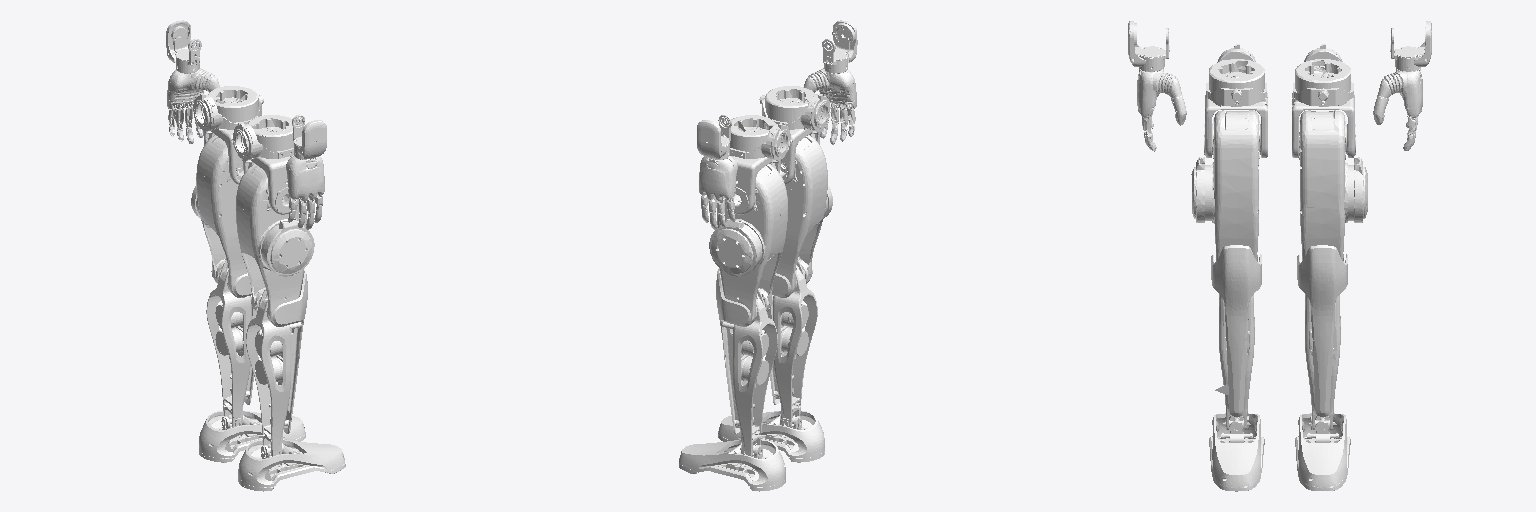
--- What the picture shows (computed from the rendered views, not written in the file) ---
The picture shows the robot from 3 angles, left to right: view 1: azimuth 30°, elevation 25°; view 2: azimuth 150°, elevation 25°; view 3: azimuth 270°, elevation 25°; orthographic projection.
Model biped_v3_full with 27 links and 26 joints (26 revolute), rooted at torso, posed every joint at zero.
Visible links, largest first — view 1: leg_r3_link, leg_r4_link, leg_l4_link, leg_l3_link, leg_r6_link, zarm_l6_link, zarm_r6_link, leg_l6_link, leg_l1_link, leg_r1_link, leg_r2_link, leg_l2_link; view 2: leg_l3_link, leg_l4_link, leg_r4_link, leg_r3_link, leg_l6_link, zarm_r6_link, zarm_l6_link, leg_r6_link, leg_r1_link, leg_l1_link, leg_l2_link, leg_r2_link; view 3: leg_l3_link, leg_r3_link, leg_r4_link, leg_l4_link, leg_l6_link, leg_r6_link, zarm_r6_link, zarm_l6_link, leg_l1_link, leg_r1_link, leg_r2_link, leg_l2_link.
Boxes of the visible links, x1,y1,x2,y2 form: leg_r3_link: (236, 164, 314, 326); leg_r4_link: (246, 268, 307, 456); leg_l4_link: (206, 260, 259, 427); leg_l3_link: (191, 135, 247, 297); leg_r6_link: (238, 440, 345, 491); zarm_l6_link: (166, 20, 219, 143); zarm_r6_link: (286, 114, 326, 229); leg_l6_link: (199, 411, 305, 462); leg_l1_link: (193, 86, 263, 131); leg_r1_link: (233, 115, 297, 160); leg_r2_link: (243, 155, 298, 214); leg_l2_link: (203, 129, 242, 184); leg_l3_link: (709, 164, 787, 326); leg_l4_link: (716, 268, 777, 456); leg_r4_link: (764, 260, 817, 427); leg_r3_link: (776, 135, 832, 297); leg_l6_link: (679, 440, 785, 491); zarm_r6_link: (804, 20, 857, 144); zarm_l6_link: (697, 115, 737, 229); leg_r6_link: (718, 411, 824, 462); leg_r1_link: (759, 86, 830, 131); leg_l1_link: (724, 115, 790, 160); leg_l2_link: (725, 156, 780, 214); leg_r2_link: (781, 129, 820, 184); leg_l3_link: (1299, 110, 1367, 261); leg_r3_link: (1191, 110, 1259, 261); leg_r4_link: (1211, 245, 1261, 429); leg_l4_link: (1297, 245, 1347, 430); leg_l6_link: (1295, 413, 1350, 490); leg_r6_link: (1209, 413, 1264, 491); zarm_r6_link: (1128, 21, 1186, 151); zarm_l6_link: (1373, 21, 1431, 150); leg_l1_link: (1293, 44, 1353, 106); leg_r1_link: (1206, 44, 1266, 106); leg_r2_link: (1204, 93, 1267, 157); leg_l2_link: (1292, 93, 1355, 157).
Bounding box of the posed robot: 0.2597 × 0.6121 × 0.9518 m (x, y, z).
Meshes: 27 distinct files referenced, 14 mesh visuals loaded (14 binary STL); not drawn: 13 (reference not matched to a file when rendering).

The robot description file, URDF, robot "biped_v3_full":
<?xml version="1.0" ?>
<!-- =================================================================================== -->
<!-- |    This document was autogenerated by xacro from [local-path]/workspace/kuavo-ros-control/src/humanoid-control/humanoid_interface_drake/models/biped_gen4.2/urdf/biped_v3_full.xacro | -->
<!-- |    EDITING THIS FILE BY HAND IS NOT RECOMMENDED                                 | -->
<!-- =================================================================================== -->
<robot name="biped_v3_full" xmlns:drake="https://drake.mit.edu">
  <link name="torso">
    <inertial>
      <origin xyz="-0.00505 0.0014 0.18077" rpy="0 0 0" />
      <mass value="25.3569" />
      <inertia ixx="0.28214" ixy="3e-05" ixz="0.01114" iyy="0.20534" iyz="0.00044" izz="0.13735" />
    </inertial>
    <visual>
      <origin rpy="0 0 0" xyz="0 0 0"/>
      <geometry>
        <mesh filename="../../meshes/base_link.STL"/>
      </geometry>
      <material name="">
        <color rgba="0.43137 0.45098 0.43137 1"/>
      </material>
    </visual>
    <!-- <collision>
      <origin xyz="0 0 0" rpy="0 0 0" />
      <geometry>
        <mesh filename="../../meshes/base_link.STL" />
      </geometry>
    </collision> -->
  </link>
  <link name="leg_l1_link">
    <inertial>
      <origin xyz="-0.00430148 -2.708e-05 -0.00851195" rpy="0 0 0" />
      <mass value="1.71093115" />
      <inertia ixx="0.00206092" ixy="1.97e-06" ixz="6.944e-05" iyy="0.00277274" iyz="-5.1e-06" izz="0.00370826" />
    </inertial>
    <visual>
      <origin xyz="0 0 0" rpy="0 0 0" />
      <geometry>
        <mesh filename="../../meshes/l_leg_roll.STL" />
      </geometry>
      <material name="">
        <color rgba="1 1 1 1" />
      </material>
    </visual>
  </link>
  <joint name="leg_l1_joint" type="revolute">
    <origin xyz="-0.0024999 0.087 -0.066" rpy="0 0 0" />
    <parent link="torso" />
    <child link="leg_l1_link" />
    <axis xyz="1 0 0" />
    <limit lower="-0.314159265358979" upper="0.663225115757845" effort="180.0" velocity="23.55" />
  </joint>
  <transmission type="SimpleTransmission">
    <joint name="leg_l1_joint" />
    <actuator name="leg_l1_joint_motor" />
  </transmission>
  <link name="leg_l2_link">
    <inertial>
      <origin xyz="0.0 -0.00231118 -0.09062539" rpy="0 0 0" />
      <mass value="0.58029165" />
      <inertia ixx="0.00223984" ixy="0.0" ixz="3e-08" iyy="0.00123175" iyz="-6.98e-06" izz="0.00146391" />
    </inertial>
    <visual>
      <origin xyz="0 0 0" rpy="0 0 0" />
      <geometry>
        <mesh filename="../../meshes/l_leg_yaw.STL" />
      </geometry>
      <material name="">
        <color rgba="1 1 1 1" />
      </material>
    </visual>
  </link>
  <joint name="leg_l2_joint" type="revolute">
    <origin xyz="0 0 0" rpy="0 0 0" />
    <parent link="leg_l1_link" />
    <child link="leg_l2_link" />
    <axis xyz="0 0 1" />
    <limit lower="-0.872664625997165" upper="0.785398163397448" effort="100.0" velocity="41.3433333333333" />
  </joint>
  <transmission type="SimpleTransmission">
    <joint name="leg_l2_joint" />
    <actuator name="leg_l2_joint_motor" />
  </transmission>
  <link name="leg_l3_link">
    <inertial>
      <origin xyz="0.00150537 0.01199614 -0.08411619" rpy="0 0 0" />
      <mass value="4.50393141" />
      <inertia ixx="0.0389365" ixy="7.866e-05" ixz="0.00102086" iyy="0.03942609" iyz="0.00219138" izz="0.00999961" />
    </inertial>
    <visual>
      <origin xyz="0 0 0" rpy="0 0 0" />
      <geometry>
        <mesh filename="../../meshes/l_leg_pitch.STL" />
      </geometry>
      <material name="">
        <color rgba="1 1 1 1" />
      </material>
    </visual>
  </link>
  <joint name="leg_l3_joint" type="revolute">
    <origin xyz="0.000500354536093913 -0.00100000000000011 -0.1287" rpy="0 0 0" />
    <parent link="leg_l2_link" />
    <child link="leg_l3_link" />
    <axis xyz="0 1 0" />
    <limit lower="-2.00712863979348" upper="1.5707963267949" effort="100.0" velocity="41.3433333333333" />
  </joint>
  <transmission type="SimpleTransmission">
    <joint name="leg_l3_joint" />
    <actuator name="leg_l3_joint_motor" />
  </transmission>
  <link name="leg_l4_link">
    <inertial>
      <origin xyz="0.00696242 5.314e-05 -0.11549851" rpy="0 0 0" />
      <mass value="1.62776815" />
      <inertia ixx="0.01243912" ixy="-2.29e-06" ixz="5.881e-05" iyy="0.01229563" iyz="-2.895e-05" izz="0.00097937" />
    </inertial>
    <visual>
      <origin xyz="0 0 0" rpy="0 0 0" />
      <geometry>
        <mesh filename="../../meshes/l_knee.STL" />
      </geometry>
      <material name="">
        <color rgba="1 1 1 1" />
      </material>
    </visual>
  </link>
  <joint name="leg_l4_joint" type="revolute">
    <origin xyz="-6.87185435835039E-05 0 -0.284" rpy="0 0 0" />
    <parent link="leg_l3_link" />
    <child link="leg_l4_link" />
    <axis xyz="0 1 0" />
    <limit lower="0.0" upper="2.53072741539178" effort="180.0" velocity="23.55" />
  </joint>
  <transmission type="SimpleTransmission">
    <joint name="leg_l4_joint" />
    <actuator name="leg_l4_joint_motor" />
  </transmission>
  <link name="leg_l5_link">
    <inertial>
      <origin xyz="0.0 0.0 0.0" rpy="0 0 0" />
      <mass value="0.07193524" />
      <inertia ixx="6.92e-06" ixy="0.0" ixz="0.0" iyy="6.92e-06" iyz="0.0" izz="1.218e-05" />
    </inertial>
    <visual>
      <origin xyz="0 0 0" rpy="0 0 0" />
      <geometry>
        <mesh filename="../../meshes/l_foot_pitch.STL" />
      </geometry>
      <material name="">
        <color rgba="1 1 1 1" />
      </material>
    </visual>
  </link>
  <joint name="leg_l5_joint" type="revolute">
    <origin xyz="-0.000431635992531742 0 -0.346000000000001" rpy="0 0 0" />
    <parent link="leg_l4_link" />
    <child link="leg_l5_link" />
    <axis xyz="0 1 0" />
    <limit lower="-0.872664625997165" upper="0.349065850398866" effort="36.0" velocity="23.0266666666667" />
  </joint>
  <transmission type="SimpleTransmission">
    <joint name="leg_l5_joint" />
    <actuator name="leg_l5_joint_motor" />
  </transmission>
  <link name="leg_l6_link">
    <inertial>
      <origin xyz="0.03732754 -2.22e-06 -0.03883977" rpy="0 0 0" />
      <mass value="0.49861272" />
      <inertia ixx="0.00039242" ixy="3e-08" ixz="4.664e-05" iyy="0.00158655" iyz="0.0" izz="0.00172576" />
    </inertial>
    <visual>
      <origin xyz="0 0 0" rpy="0 0 0" />
      <geometry>
        <mesh filename="../../meshes/l_foot_roll.STL" />
      </geometry>
      <material name="">
        <color rgba="1 1 1 1" />
      </material>
    </visual>
  </link>
  <joint name="leg_l6_joint" type="revolute">
    <origin xyz="0 0 0" rpy="0 0 0" />
    <parent link="leg_l5_link" />
    <child link="leg_l6_link" />
    <axis xyz="1 0 0" />
    <limit lower="-0.261799387799149" upper="0.261799387799149" effort="36.0" velocity="23.0266666666667" />
  </joint>
  <transmission type="SimpleTransmission">
    <joint name="leg_l6_joint" />
    <actuator name="leg_l6_joint_motor" />
  </transmission>
  <!-- sssssssss -->
  <frame link="leg_l6_link" name="l_foot_sole" xyz="0.048838 0.0 -0.0593"/>
  <frame link="leg_l6_link" name="l_foot_toe" xyz="0.17084 0.0 -0.0593"/>
  <frame link="leg_l6_link" name="l_foot_heel" xyz="-0.073164 0.0 -0.0593"/>
  <link name="leg_r1_link">
    <inertial>
      <origin xyz="-0.00430146 2.709e-05 -0.00851195" rpy="0 0 0" />
      <mass value="1.71093008" />
      <inertia ixx="0.00206092" ixy="-1.97e-06" ixz="6.944e-05" iyy="0.00277274" iyz="5.1e-06" izz="0.00370826" />
    </inertial>
    <visual>
      <origin xyz="0 0 0" rpy="0 0 0" />
      <geometry>
        <mesh filename="../../meshes/r_leg_roll.STL" />
      </geometry>
      <material name="">
        <color rgba="1 1 1 1" />
      </material>
    </visual>
  </link>
  <joint name="leg_r1_joint" type="revolute">
    <origin xyz="-0.0024999 -0.087 -0.066" rpy="0 0 0" />
    <parent link="torso" />
    <child link="leg_r1_link" />
    <axis xyz="1 0 0" />
    <limit lower="-0.663225115757845" upper="0.314159265358979" effort="180.0" velocity="23.55" />
  </joint>
  <transmission type="SimpleTransmission">
    <joint name="leg_r1_joint" />
    <actuator name="leg_r1_joint_motor" />
  </transmission>
  <link name="leg_r2_link">
    <inertial>
      <origin xyz="0.0 0.00231118 -0.09062539" rpy="0 0 0" />
      <mass value="0.58029165" />
      <inertia ixx="0.00223984" ixy="0.0" ixz="-3e-08" iyy="0.00123175" iyz="6.98e-06" izz="0.00146391" />
    </inertial>
    <visual>
      <origin xyz="0 0 0" rpy="0 0 0" />
      <geometry>
        <mesh filename="../../meshes/r_leg_yaw.STL" />
      </geometry>
      <material name="">
        <color rgba="1 1 1 1" />
      </material>
    </visual>
  </link>
  <joint name="leg_r2_joint" type="revolute">
    <origin xyz="0 0 0" rpy="0 0 0" />
    <parent link="leg_r1_link" />
    <child link="leg_r2_link" />
    <axis xyz="0 0 1" />
    <limit lower="-0.785398163397448" upper="0.872664625997165" effort="100.0" velocity="41.3433333333333" />
  </joint>
  <transmission type="SimpleTransmission">
    <joint name="leg_r2_joint" />
    <actuator name="leg_r2_joint_motor" />
  </transmission>
  <link name="leg_r3_link">
    <inertial>
      <origin xyz="0.00208315 -0.01199644 -0.08411379" rpy="0 0 0" />
      <mass value="4.50385993" />
      <inertia ixx="0.03893478" ixy="-7.792e-05" ixz="0.00103064" iyy="0.03942522" iyz="-0.00219154" izz="0.01000016" />
    </inertial>
    <visual>
      <origin xyz="0 0 0" rpy="0 0 0" />
      <geometry>
        <mesh filename="../../meshes/r_leg_pitch.STL" />
      </geometry>
      <material name="">
        <color rgba="1 1 1 1" />
      </material>
    </visual>
  </link>
  <joint name="leg_r3_joint" type="revolute">
    <origin xyz="-4.88006581312577E-05 0 -0.1287" rpy="0 0 0" />
    <parent link="leg_r2_link" />
    <child link="leg_r3_link" />
    <axis xyz="0 1 0" />
    <limit lower="-2.00712863979348" upper="1.5707963267949" effort="100.0" velocity="41.3433333333333" />
  </joint>
  <transmission type="SimpleTransmission">
    <joint name="leg_r3_joint" />
    <actuator name="leg_r3_joint_motor" />
  </transmission>
  <link name="leg_r4_link">
    <inertial>
      <origin xyz="0.00743231 -5.343e-05 -0.11558701" rpy="0 0 0" />
      <mass value="1.62655699" />
      <inertia ixx="0.01241258" ixy="2.28e-06" ixz="6.289e-05" iyy="0.0122692" iyz="2.902e-05" izz="0.00097927" />
    </inertial>
    <visual>
      <origin xyz="0 0 0" rpy="0 0 0" />
      <geometry>
        <mesh filename="../../meshes/r_knee.STL" />
      </geometry>
      <material name="">
        <color rgba="1 1 1 1" />
      </material>
    </visual>
  </link>
  <joint name="leg_r4_joint" type="revolute">
    <origin xyz="0.000147138572785148 0 -0.283999982974744" rpy="0 0 0" />
    <parent link="leg_r3_link" />
    <child link="leg_r4_link" />
    <axis xyz="0 1 0" />
    <limit lower="0.0" upper="2.53072741539178" effort="180.0" velocity="23.55" />
  </joint>
  <transmission type="SimpleTransmission">
    <joint name="leg_r4_joint" />
    <actuator name="leg_r4_joint_motor" />
  </transmission>
  <link name="leg_r5_link">
    <inertial>
      <origin xyz="0.0 0.0 0.0" rpy="0 0 0" />
      <mass value="0.07193524" />
      <inertia ixx="6.92e-06" ixy="0.0" ixz="0.0" iyy="6.92e-06" iyz="0.0" izz="1.218e-05" />
    </inertial>
    <visual>
      <origin xyz="0 0 0" rpy="0 0 0" />
      <geometry>
        <mesh filename="../../meshes/r_foot_pitch.STL" />
      </geometry>
      <material name="">
        <color rgba="1 1 1 1" />
      </material>
    </visual>
  </link>
  <joint name="leg_r5_joint" type="revolute">
    <origin xyz="0.000119806050928577 0 -0.345999979257963" rpy="0 0 0" />
    <parent link="leg_r4_link" />
    <child link="leg_r5_link" />
    <axis xyz="0 1 0" />
    <limit lower="-0.872664625997165" upper="0.349065850398866" effort="36.0" velocity="23.0266666666667" />
  </joint>
  <transmission type="SimpleTransmission">
    <joint name="leg_r5_joint" />
    <actuator name="leg_r5_joint_motor" />
  </transmission>
  <link name="leg_r6_link">
    <inertial>
      <origin xyz="0.03734098 -2.22e-06 -0.03882684" rpy="0 0 0" />
      <mass value="0.49861272" />
      <inertia ixx="0.00039238" ixy="3e-08" ixz="4.618e-05" iyy="0.00158655" iyz="0.0" izz="0.00172579" />
    </inertial>
    <visual>
      <origin xyz="0 0 0" rpy="0 0 0" />
      <geometry>
        <mesh filename="../../meshes/r_foot_roll.STL" />
      </geometry>
      <material name="">
        <color rgba="1 1 1 1" />
      </material>
    </visual>
  </link>
  <joint name="leg_r6_joint" type="revolute">
    <origin xyz="0 0 0" rpy="0 0 0" />
    <parent link="leg_r5_link" />
    <child link="leg_r6_link" />
    <axis xyz="1 0 0" />
    <limit lower="-0.261799387799149" upper="0.261799387799149" effort="36.0" velocity="23.0266666666667" />
  </joint>
  <transmission type="SimpleTransmission">
    <joint name="leg_r6_joint" />
    <actuator name="leg_r6_joint_motor" />
  </transmission>
  <!-- sssssssss -->
  <frame link="leg_r6_link" name="r_foot_sole" xyz="0.048838 0.0 -0.0593"/>
  <frame link="leg_r6_link" name="r_foot_toe" xyz="0.17084 0.0 -0.0593"/>
  <frame link="leg_r6_link" name="r_foot_heel" xyz="-0.073164 0.0 -0.0593"/>
  <!-- =========================================================== Arms ================================================================= -->
  <link name="zarm_l1_link">
    <inertial>
      <origin xyz="0.008 -0.00158 0.0036" rpy="0 0 0" />
      <mass value="1.15" />
      <inertia ixx="0.0006" ixy="5e-05" ixz="1e-05" iyy="0.00048" iyz="-6e-05" izz="0.0007" />
    </inertial>
    <visual>
      <origin xyz="0 0 0" rpy="0 0 0" />
      <geometry>
        <mesh filename="../../meshes/l_arm_pitch.STL" />
      </geometry>
      <material name="">
        <color rgba="1 1 1 1" />
      </material>
    </visual>
  </link>
  <joint name="zarm_l1_joint" type="revolute">
    <origin xyz="-0.0175 0.25886 0.3245" rpy="0 0 0" />
    <parent link="torso" />
    <child link="zarm_l1_link" />
    <axis xyz="0 1 0" />
    <limit lower="-2.61799387799149" upper="0.523598775598299" effort="100.0" velocity="41.3433333333333" />
  </joint>
  <transmission type="SimpleTransmission">
    <joint name="zarm_l1_joint" />
    <actuator name="zarm_l1_joint_motor" />
  </transmission>
  <link name="zarm_l2_link">
    <inertial>
      <origin xyz="0.00144 0.02159 -0.0202" rpy="0 0 0" />
      <mass value="0.226" />
      <inertia ixx="0.0003" ixy="3e-05" ixz="1e-05" iyy="0.00061" iyz="5e-05" izz="0.00057" />
    </inertial>
    <visual>
      <origin xyz="0 0 0" rpy="0 0 0" />
      <geometry>
        <mesh filename="../../meshes/l_arm_roll.STL" />
      </geometry>
      <material name="">
        <color rgba="1 1 1 1" />
      </material>
    </visual>
  </link>
  <joint name="zarm_l2_joint" type="revolute">
    <origin xyz="0 0 0" rpy="0 0 0" />
    <parent link="zarm_l1_link" />
    <child link="zarm_l2_link" />
    <axis xyz="1 0 0" />
    <limit lower="-0.349065850398866" upper="2.0943951023932" effort="50.0" velocity="19.154" />
  </joint>
  <transmission type="SimpleTransmission">
    <joint name="zarm_l2_joint" />
    <actuator name="zarm_l2_joint_motor" />
  </transmission>
  <link name="zarm_l3_link">
    <inertial>
      <origin xyz="-0.00157 -3e-05 -0.13318" rpy="0 0 0" />
      <mass value="1.166" />
      <inertia ixx="0.00245" ixy="-1e-05" ixz="-1e-05" iyy="0.0022" iyz="0.0" izz="0.00112" />
    </inertial>
    <visual>
      <origin xyz="0 0 0" rpy="0 0 0" />
      <geometry>
        <mesh filename="../../meshes/l_arm_yaw.STL" />
      </geometry>
      <material name="">
        <color rgba="1 1 1 1" />
      </material>
    </visual>
  </link>
  <joint name="zarm_l3_joint" type="revolute">
    <origin xyz="0 0 0" rpy="0 0 0" />
    <parent link="zarm_l2_link" />
    <child link="zarm_l3_link" />
    <axis xyz="0 0 1" />
    <limit lower="-1.5707963267949" upper="1.5707963267949" effort="20.0" velocity="18.84" />
  </joint>
  <transmission type="SimpleTransmission">
    <joint name="zarm_l3_joint" />
    <actuator name="zarm_l3_joint_motor" />
  </transmission>
  <link name="zarm_l4_link">
    <inertial>
      <origin xyz="-4e-05 0.0098 -0.05283" rpy="0 0 0" />
      <mass value="0.575" />
      <inertia ixx="0.00098" ixy="0.0" ixz="0.0" iyy="0.00062" iyz="-0.00016" izz="0.00088" />
    </inertial>
    <visual>
      <origin xyz="0 0 0" rpy="0 0 0" />
      <geometry>
        <mesh filename="../../meshes/l_forearm.STL" />
      </geometry>
      <material name="">
        <color rgba="1 1 1 1" />
      </material>
    </visual>
  </link>
  <joint name="zarm_l4_joint" type="revolute">
    <origin xyz="0 0 -0.1646" rpy="0 0 0" />
    <parent link="zarm_l3_link" />
    <child link="zarm_l4_link" />
    <axis xyz="0 1 0" />
    <limit lower="-1.5707963267949" upper="0.0" effort="20.0" velocity="18.84" />
  </joint>
  <transmission type="SimpleTransmission">
    <joint name="zarm_l4_joint" />
    <actuator name="zarm_l4_joint_motor" />
  </transmission>
  <link name="zarm_l5_link">
    <inertial>
      <origin xyz="-0.00011 0.00421 -0.11168" rpy="0 0 0" />
      <mass value="0.46" />
      <inertia ixx="0.00077" ixy="0.0" ixz="0.0" iyy="0.0005" iyz="-4e-05" izz="0.00063" />
    </inertial>
    <visual>
      <origin xyz="0 0 0" rpy="0 0 0" />
      <geometry>
        <mesh filename="../../meshes/l_hand_yaw.STL" />
      </geometry>
      <material name="">
        <color rgba="1 1 1 1" />
      </material>
    </visual>
  </link>
  <joint name="zarm_l5_joint" type="revolute">
    <origin xyz="0 0 0" rpy="0 0 0" />
    <parent link="zarm_l4_link" />
    <child link="zarm_l5_link" />
    <axis xyz="0 0 1" />
    <limit lower="-1.5707963267949" upper="1.5707963267949" effort="6.0" velocity="21.666" />
  </joint>
  <transmission type="SimpleTransmission">
    <joint name="zarm_l5_joint" />
    <actuator name="zarm_l5_joint_motor" />
  </transmission>
  <link name="zarm_l6_link">
    <inertial>
      <origin xyz="0.00253 0.00382 -0.05356" rpy="0 0 0" />
      <mass value="0.35" />
      <inertia ixx="0.00023" ixy="0.0" ixz="0.0" iyy="0.00024" iyz="-4e-05" izz="0.00019" />
    </inertial>
    <visual>
      <origin xyz="0 0 0" rpy="0 0 0" />
      <geometry>
        <mesh filename="../../meshes/l_hand_pitch.STL" />
      </geometry>
      <material name="">
        <color rgba="1 1 1 1" />
      </material>
    </visual>
  </link>
  <joint name="zarm_l6_joint" type="revolute">
    <origin xyz="0 0 -0.132050000125748" rpy="0 0 0" />
    <parent link="zarm_l5_link" />
    <child link="zarm_l6_link" />
    <axis xyz="0 1 0" />
    <limit lower="-1.5707963267949" upper="1.5707963267949" effort="6.0" velocity="21.666" />
  </joint>
  <transmission type="SimpleTransmission">
    <joint name="zarm_l6_joint" />
    <actuator name="zarm_l6_joint_motor" />
  </transmission>
  <link name="zarm_l7_link">
    <inertial>
      <origin xyz="0.00267 0.00748 -0.07162" rpy="0 0 0" />
      <mass value="0.81" />
      <inertia ixx="0.00117" ixy="2e-05" ixz="0.0" iyy="0.00128" iyz="-2e-05" izz="0.00036" />
    </inertial>
    <visual>
      <origin xyz="0 0 0" rpy="0 0 0" />
      <geometry>
        <mesh filename="../../meshes/l_hand_roll.STL" />
      </geometry>
      <material name="">
        <color rgba="1 1 1 1" />
      </material>
    </visual>
  </link>
  <joint name="zarm_l7_joint" type="revolute">
    <origin xyz="0 0 -0.0589999999999999" rpy="0 0 0" />
    <parent link="zarm_l6_link" />
    <child link="zarm_l7_link" />
    <axis xyz="1 0 0" />
    <limit lower="-1.5707963267949" upper="1.5707963267949" effort="6.0" velocity="21.666" />
  </joint>
  <transmission type="SimpleTransmission">
    <joint name="zarm_l7_joint" />
    <actuator name="zarm_l7_joint_motor" />
  </transmission>
  <!-- right arm -->
  <link name="zarm_r1_link">
    <inertial>
      <origin xyz="0.008 0.00158 -0.0036" rpy="0 0 0" />
      <mass value="1.15" />
      <inertia ixx="0.0006" ixy="-5e-05" ixz="-1e-05" iyy="0.00048" iyz="-6e-05" izz="0.0007" />
    </inertial>
    <visual>
      <origin xyz="0 0 0" rpy="0 0 0" />
      <geometry>
        <mesh filename="../../meshes/r_arm_pitch.STL" />
      </geometry>
      <material name="">
        <color rgba="1 1 1 1" />
      </material>
    </visual>
  </link>
  <joint name="zarm_r1_joint" type="revolute">
    <origin xyz="-0.0175 -0.25886 0.3245" rpy="0 0 0" />
    <parent link="torso" />
    <child link="zarm_r1_link" />
    <axis xyz="0 1 0" />
    <limit lower="-2.61799387799149" upper="0.523598775598299" effort="100.0" velocity="41.3433333333333" />
  </joint>
  <transmission type="SimpleTransmission">
    <joint name="zarm_r1_joint" />
    <actuator name="zarm_r1_joint_motor" />
  </transmission>
  <link name="zarm_r2_link">
    <inertial>
      <origin xyz="0.00144 -0.02159 -0.02021" rpy="0 0 0" />
      <mass value="0.226" />
      <inertia ixx="0.0003" ixy="-3e-05" ixz="1e-05" iyy="0.00061" iyz="-5e-05" izz="0.00057" />
    </inertial>
    <visual>
      <origin xyz="0 0 0" rpy="0 0 0" />
      <geometry>
        <mesh filename="../../meshes/r_arm_roll.STL" />
      </geometry>
      <material name="">
        <color rgba="1 1 1 1" />
      </material>
    </visual>
  </link>
  <joint name="zarm_r2_joint" type="revolute">
    <origin xyz="0 0 0" rpy="0 0 0" />
    <parent link="zarm_r1_link" />
    <child link="zarm_r2_link" />
    <axis xyz="1 0 0" />
    <limit lower="-2.0943951023932" upper="0.349065850398866" effort="50.0" velocity="19.154" />
  </joint>
  <transmission type="SimpleTransmission">
    <joint name="zarm_r2_joint" />
    <actuator name="zarm_r2_joint_motor" />
  </transmission>
  <link name="zarm_r3_link">
    <inertial>
      <origin xyz="-0.00157 3e-05 -0.13318" rpy="0 0 0" />
      <mass value="1.166" />
      <inertia ixx="0.00245" ixy="1e-05" ixz="-1e-05" iyy="0.0022" iyz="0.0" izz="0.00112" />
    </inertial>
    <visual>
      <origin xyz="0 0 0" rpy="0 0 0" />
      <geometry>
        <mesh filename="../../meshes/r_arm_yaw.STL" />
      </geometry>
      <material name="">
        <color rgba="1 1 1 1" />
      </material>
    </visual>
  </link>
  <joint name="zarm_r3_joint" type="revolute">
    <origin xyz="0 0 0" rpy="0 0 0" />
    <parent link="zarm_r2_link" />
    <child link="zarm_r3_link" />
    <axis xyz="0 0 1" />
    <limit lower="-1.5707963267949" upper="1.5707963267949" effort="20.0" velocity="18.84" />
  </joint>
  <transmission type="SimpleTransmission">
    <joint name="zarm_r3_joint" />
    <actuator name="zarm_r3_joint_motor" />
  </transmission>
  <link name="zarm_r4_link">
    <inertial>
      <origin xyz="-4e-05 -0.0098 -0.05283" rpy="0 0 0" />
      <mass value="0.575" />
      <inertia ixx="0.00098" ixy="0.0" ixz="0.0" iyy="0.00062" iyz="0.00016" izz="0.00088" />
    </inertial>
    <visual>
      <origin xyz="0 0 0" rpy="0 0 0" />
      <geometry>
        <mesh filename="../../meshes/r_forearm.STL" />
      </geometry>
      <material name="">
        <color rgba="1 1 1 1" />
      </material>
    </visual>
  </link>
  <joint name="zarm_r4_joint" type="revolute">
    <origin xyz="0 0 -0.1646" rpy="0 0 0" />
    <parent link="zarm_r3_link" />
    <child link="zarm_r4_link" />
    <axis xyz="0 1 0" />
    <limit lower="-1.5707963267949" upper="0.0" effort="20.0" velocity="18.84" />
  </joint>
  <transmission type="SimpleTransmission">
    <joint name="zarm_r4_joint" />
    <actuator name="zarm_r4_joint_motor" />
  </transmission>
  <link name="zarm_r5_link">
    <inertial>
      <origin xyz="-0.00011 -0.00421 -0.11168" rpy="0 0 0" />
      <mass value="0.46" />
      <inertia ixx="0.00077" ixy="0.0" ixz="0.0" iyy="0.0005" iyz="4e-05" izz="0.00063" />
    </inertial>
    <visual>
      <origin xyz="0 0 0" rpy="0 0 0" />
      <geometry>
        <mesh filename="../../meshes/r_hand_yaw.STL" />
      </geometry>
      <material name="">
        <color rgba="1 1 1 1" />
      </material>
    </visual>
  </link>
  <joint name="zarm_r5_joint" type="revolute">
    <origin xyz="0 0 0" rpy="0 0 0" />
    <parent link="zarm_r4_link" />
    <child link="zarm_r5_link" />
    <axis xyz="0 0 1" />
    <limit lower="-1.5707963267949" upper="1.5707963267949" effort="6.0" velocity="21.666" />
  </joint>
  <transmission type="SimpleTransmission">
    <joint name="zarm_r5_joint" />
    <actuator name="zarm_r5_joint_motor" />
  </transmission>
  <link name="zarm_r6_link">
    <inertial>
      <origin xyz="0.00253 -0.00382 -0.05356" rpy="0 0 0" />
      <mass value="0.35" />
      <inertia ixx="0.00023" ixy="0.0" ixz="0.0" iyy="0.00024" iyz="4e-05" izz="0.00019" />
    </inertial>
    <visual>
      <origin xyz="0 0 0" rpy="0 0 0" />
      <geometry>
        <mesh filename="../../meshes/r_hand_pitch.STL" />
      </geometry>
      <material name="">
        <color rgba="1 1 1 1" />
      </material>
    </visual>
  </link>
  <joint name="zarm_r6_joint" type="revolute">
    <origin xyz="0 0 -0.132050000240097" rpy="0 0 0" />
    <parent link="zarm_r5_link" />
    <child link="zarm_r6_link" />
    <axis xyz="0 1 0" />
    <limit lower="-1.5707963267949" upper="1.5707963267949" effort="6.0" velocity="21.666" />
  </joint>
  <transmission type="SimpleTransmission">
    <joint name="zarm_r6_joint" />
    <actuator name="zarm_r6_joint_motor" />
  </transmission>
  <link name="zarm_r7_link">
    <inertial>
      <origin xyz="0.00267 -0.00748 -0.07162" rpy="0 0 0" />
      <mass value="0.81" />
      <inertia ixx="0.00098" ixy="-1e-05" ixz="1e-05" iyy="0.00104" iyz="1e-05" izz="0.00027" />
    </inertial>
    <visual>
      <origin xyz="0 0 0" rpy="0 0 0" />
      <geometry>
        <mesh filename="../../meshes/r_hand_roll.STL" />
      </geometry>
      <material name="">
        <color rgba="1 1 1 1" />
      </material>
    </visual>
  </link>
  <joint name="zarm_r7_joint" type="revolute">
    <origin xyz="0 0 -0.0589999999999999" rpy="0 0 0" />
    <parent link="zarm_r6_link" />
    <child link="zarm_r7_link" />
    <axis xyz="1 0 0" />
    <limit lower="-1.5707963267949" upper="1.5707963267949" effort="6.0" velocity="21.666" />
  </joint>
  <transmission type="SimpleTransmission">
    <joint name="zarm_r7_joint" />
    <actuator name="zarm_r7_joint_motor" />
  </transmission>
  <!-- end frame -->
  <!-- <frame link="l_hand_pitch" name="l_hand_sole" xyz="0 0 -0.1" /> -->
  <!-- end frame -->
  <!-- <frame link="r_hand_pitch" name="r_hand_sole" xyz="0 0 -0.1" /> -->
</robot>
